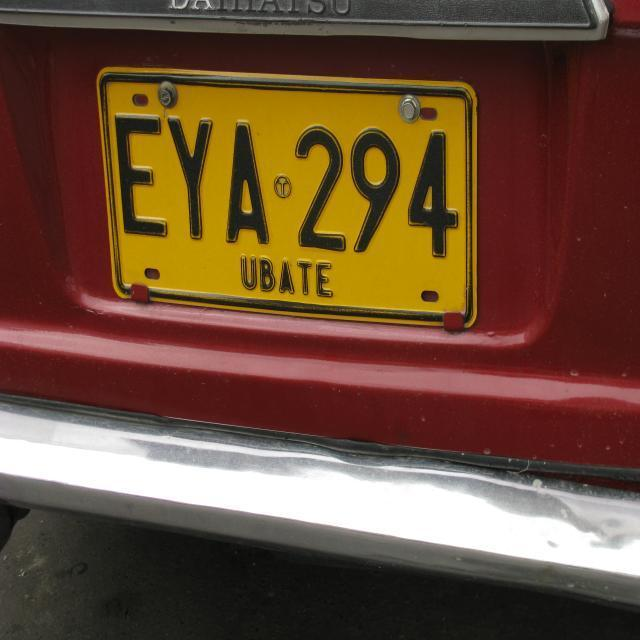placa: (90, 44, 486, 337)
